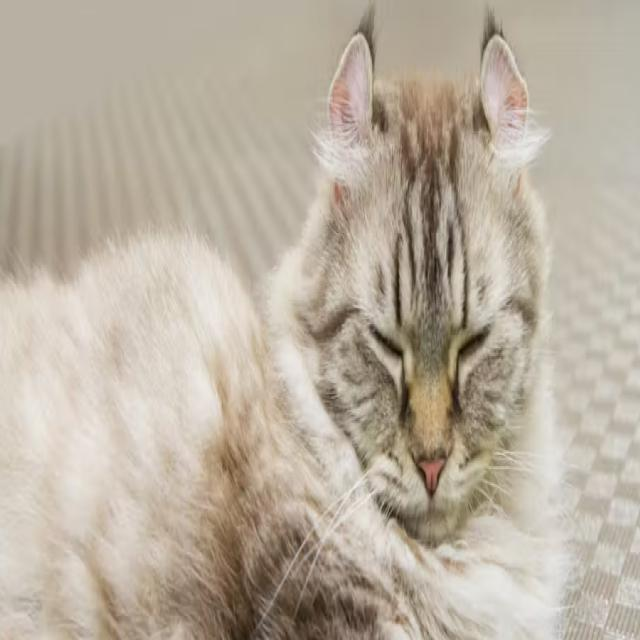American Curl: (0, 16, 567, 640)
